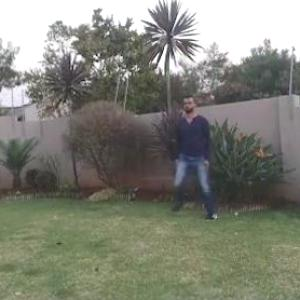follow: (174, 87, 212, 216)
